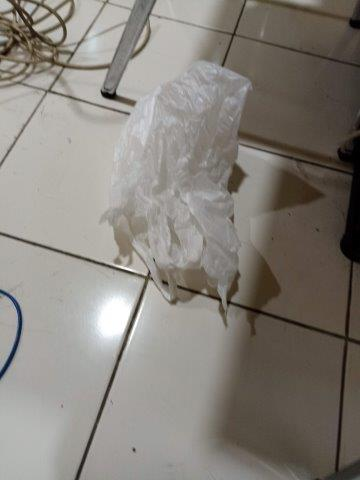plastik: (104, 59, 252, 315)
